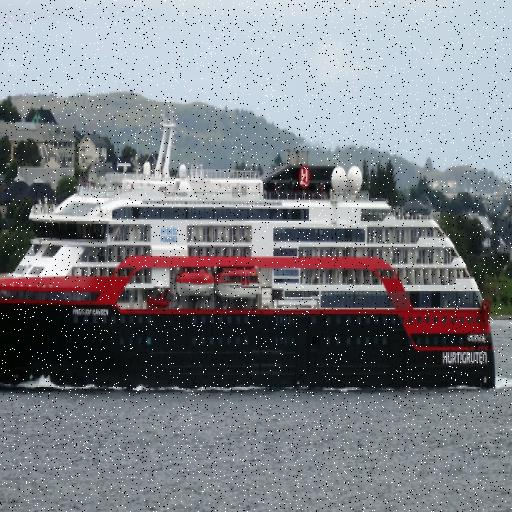cruises: (1, 106, 505, 403)
